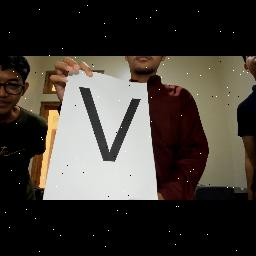v: (73, 76, 153, 174)
